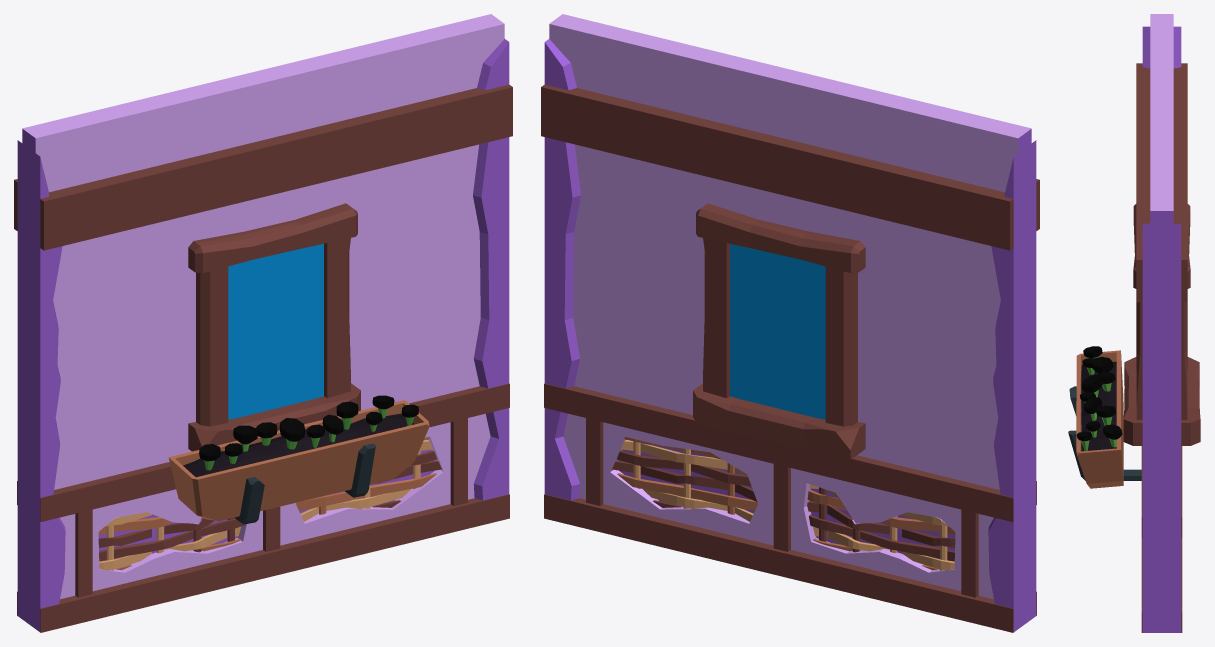
File: Modular Wall 07 MK2 W3.fbx
3 views of the same model, side by side, from view 1: azimuth 30°, elevation 25°; view 2: azimuth 150°, elevation 25°; view 3: azimuth 270°, elevation 25° (orthographic). The views are drawn at different scales.
Parts seen in each view (by area): view 1: Modular Wall 07 MK2 W3; view 2: Modular Wall 07 MK2 W3; view 3: Modular Wall 07 MK2 W3.
Part boxes in pixels (x1,y1,x2,y2): Modular Wall 07 MK2 W3: [14, 14, 512, 632]; Modular Wall 07 MK2 W3: [541, 14, 1039, 632]; Modular Wall 07 MK2 W3: [1068, 14, 1200, 632].
Bounding box in the file's own units: 400 × 400 × 113.
